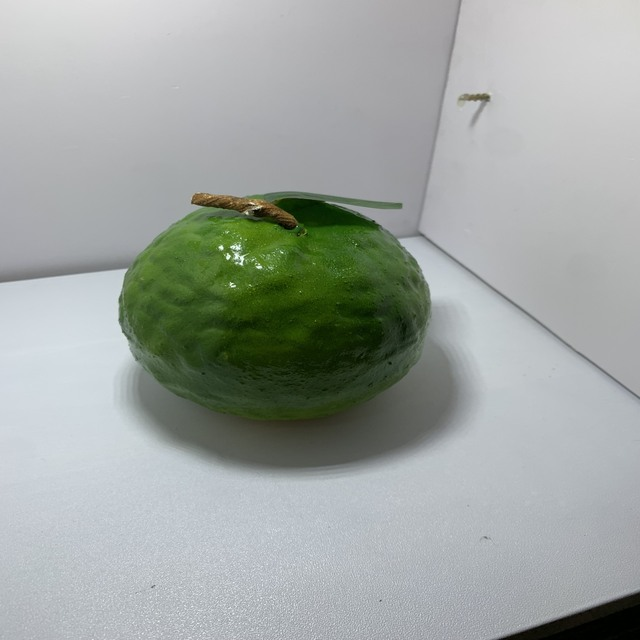Cam xanh: (115, 190, 434, 426)
